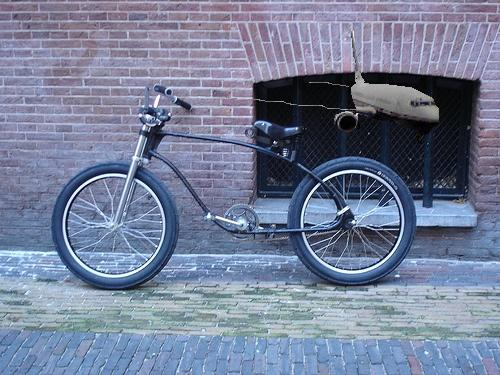tampered: (227, 31, 439, 144)
